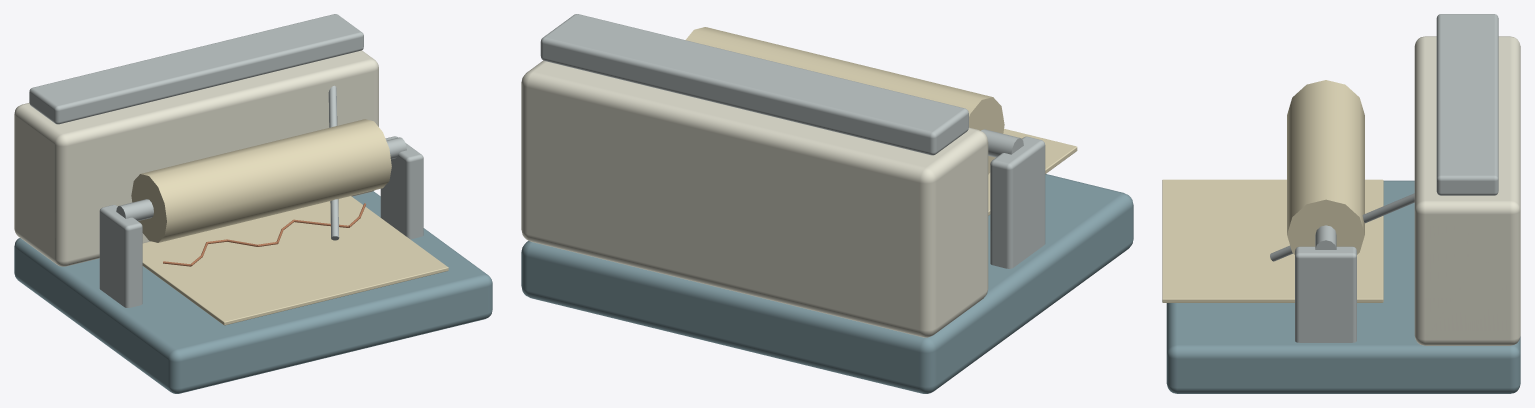
Rendered from abandoned-tidal-model-testing-hall-paper-chart-recorde-02501aa4__32372.glb.
3 renders of one model, left to right at view 1: azimuth 30°, elevation 25°; view 2: azimuth 150°, elevation 25°; view 3: azimuth 270°, elevation 25°, orthographic. The views are drawn at different scales.
Visible parts, largest first — view 1: paper-chart-recorder; view 2: paper-chart-recorder; view 3: paper-chart-recorder.
Part boxes in pixels (x1=…): paper-chart-recorder: x1=14, y1=14, x2=492, y2=393; paper-chart-recorder: x1=521, y1=14, x2=1133, y2=393; paper-chart-recorder: x1=1162, y1=14, x2=1520, y2=393.
Size of the model in its own units: 0.46 by 0.27 by 0.405.
